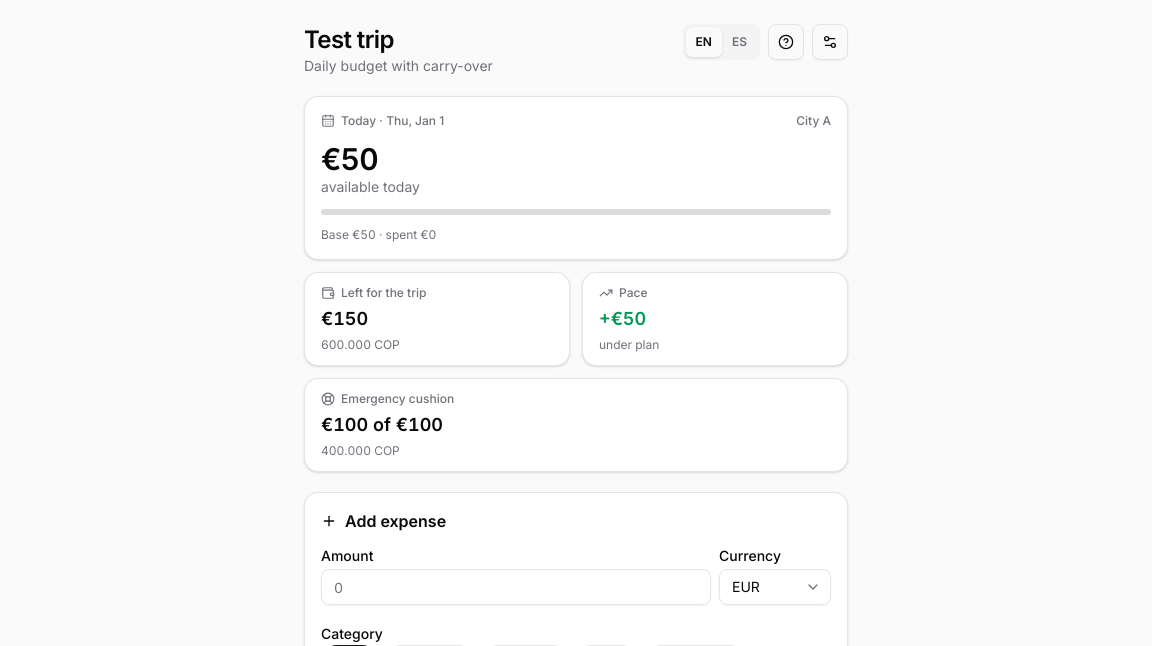
Test: live exchange rates in the app › shows an error when the rates cannot be loaded
The width and height of the screenshot is (1152, 646).
Click the button named "Trip settings" at (830, 42), box [812,24,848,60]
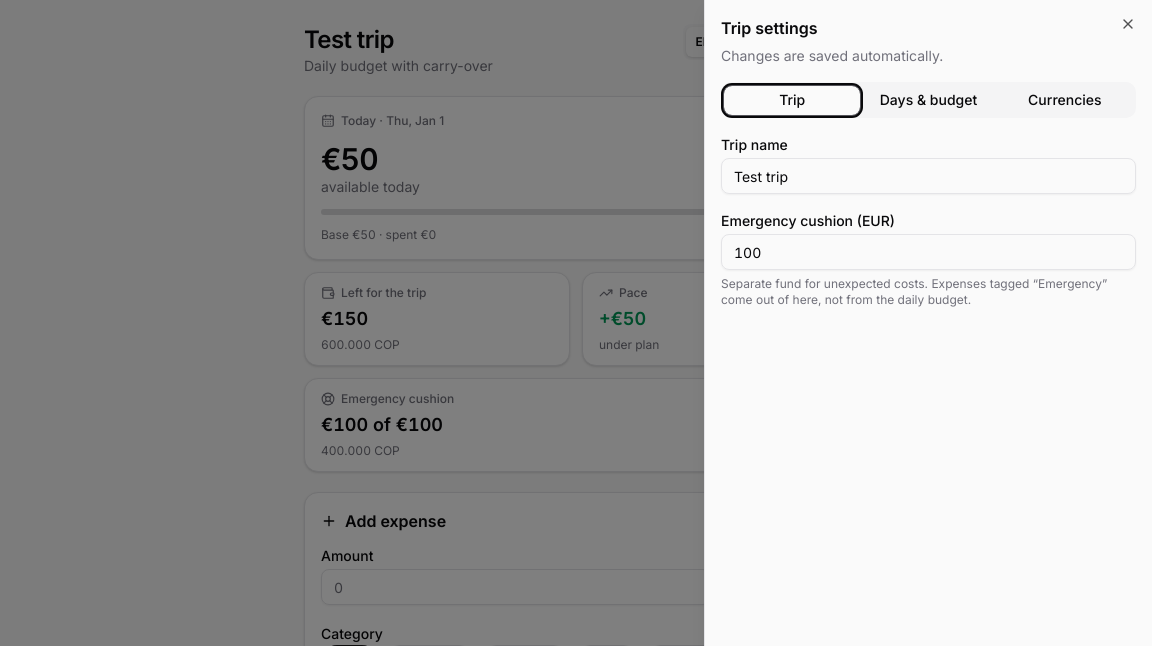
Click the tab "Currencies" at (1065, 100), box [997,86,1133,114]
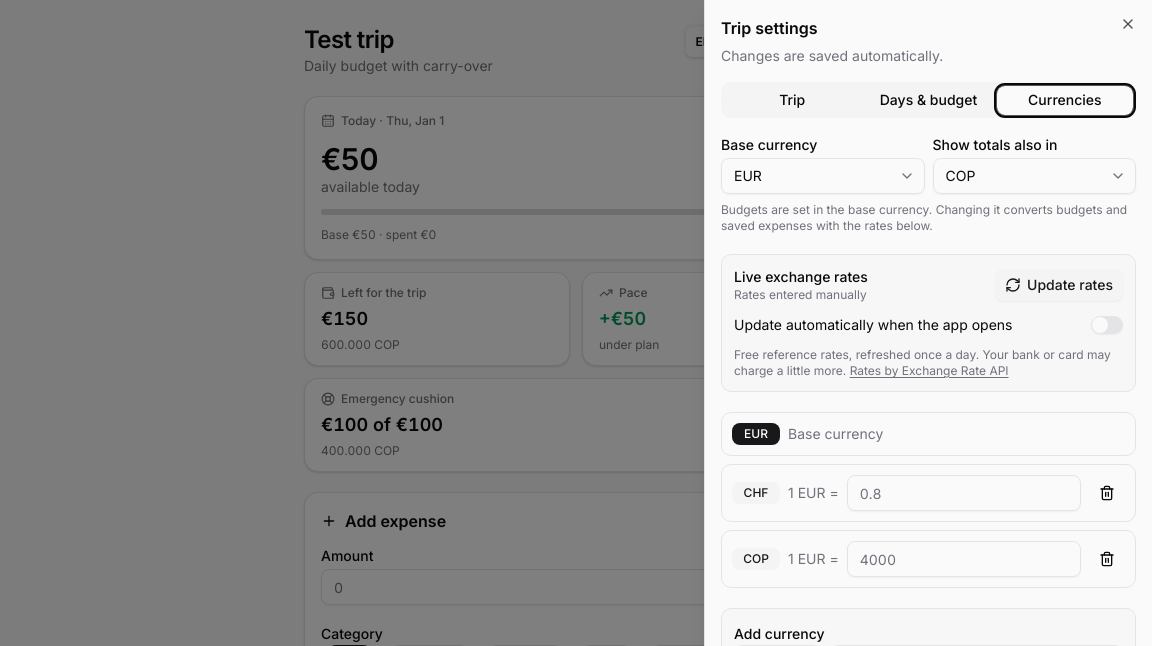
Click the button "Update rates" at (1059, 285), box [995,269,1123,301]
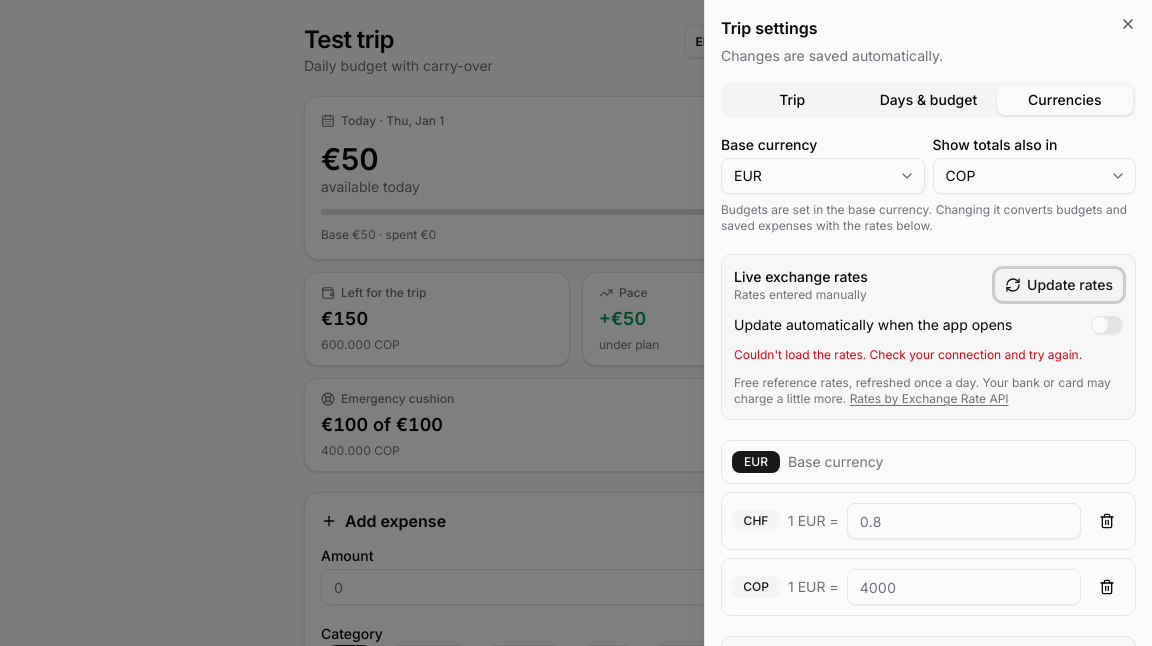
Expected: the number field named "CHF per EUR" holds "0.8", [847,503,1081,539]
Expected: the message shows "Couldn't load the rates", [734,347,1082,362]
